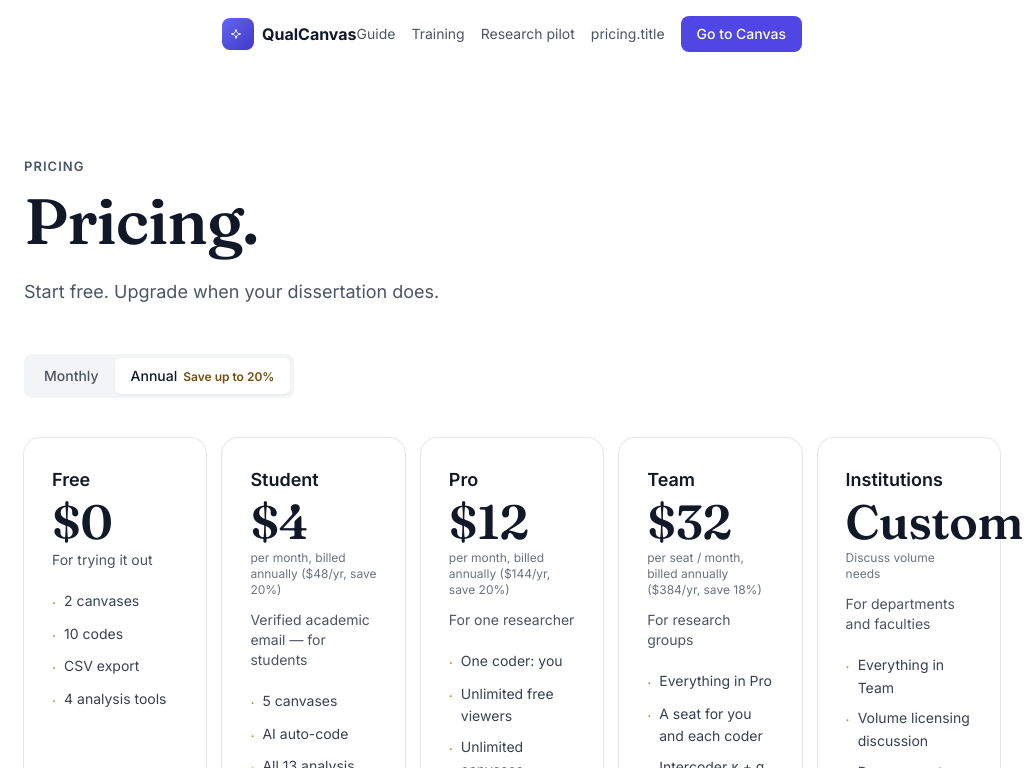
it: PricingPage (refresh) › Monthly toggle switches to higher prices
Click the button "Monthly". click: (71, 376)
box: x1=28 y1=358 x2=114 y2=394
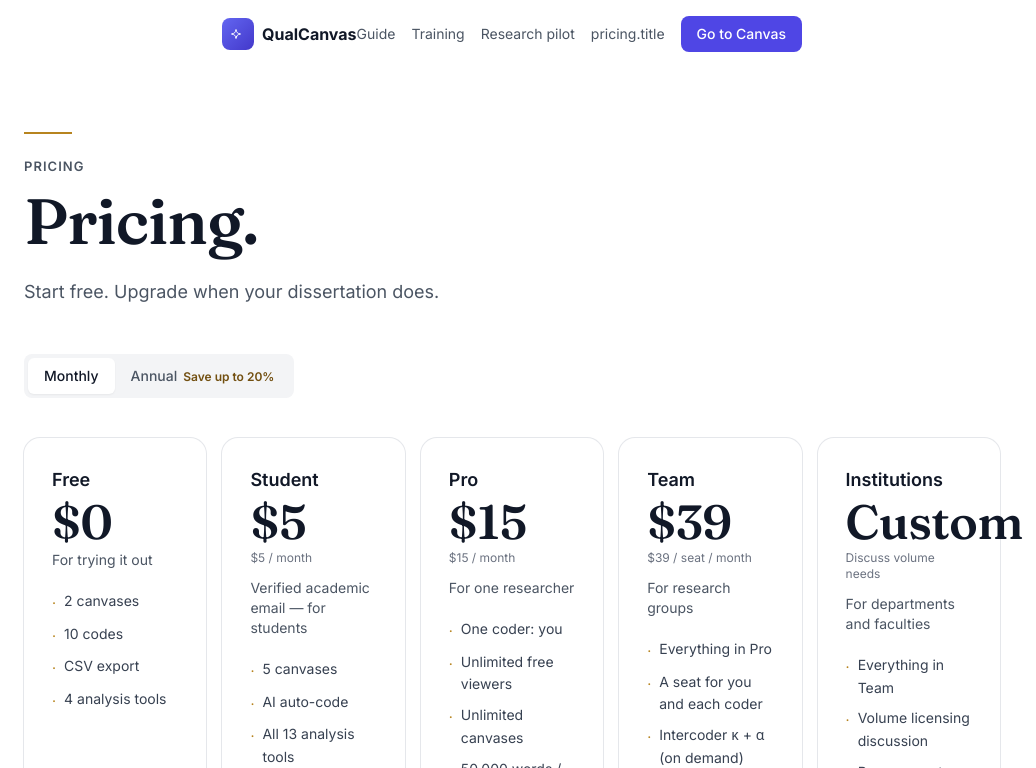
Now the text "$15" is shown, box x1=449 y1=492 x2=527 y2=551
Now the text "$39" is shown, box x1=647 y1=492 x2=731 y2=551
